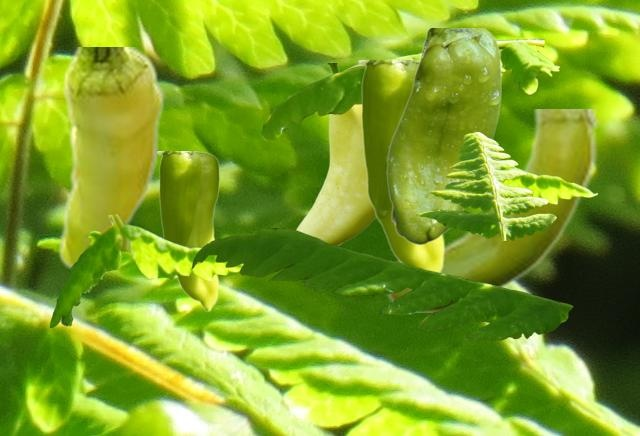green_chili: (382, 109, 599, 311), (386, 28, 500, 244), (57, 47, 164, 273), (357, 60, 444, 272), (296, 63, 375, 245), (158, 151, 218, 310)
